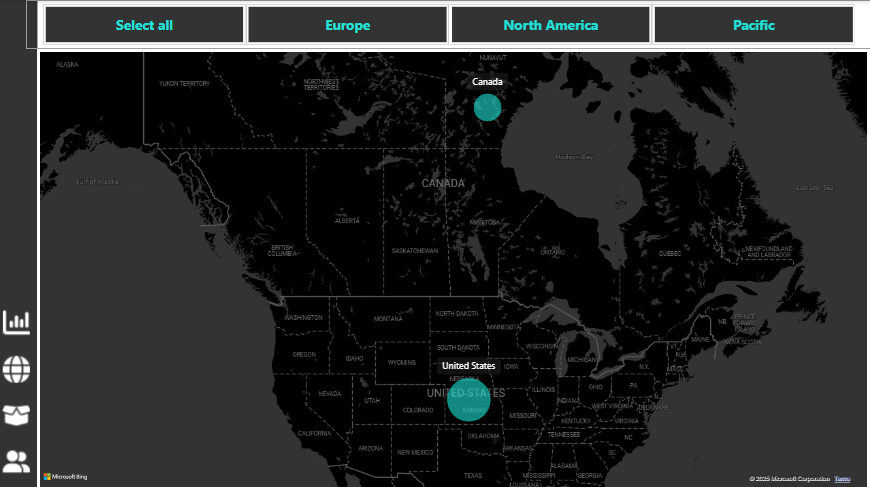

Layout of this report page (visuals, bound fields, positions):
{"tool":"powerbi","page":{"name":"Map","canvas":[1280,720],"ordinal":1},"visuals":[{"type":"shape","box":[0,0,55,720],"z":0},{"type":"map","fields":{"Category":["Territory Lookup.Country"],"Size":["Measure Table (DAX).Total Orders"]},"box":[54.4,72,1225.5,648],"z":1},{"type":"slicer","fields":{"Values":["Territory Lookup.Continent"]},"box":[38.2,0,1241.6,72],"z":2},{"type":"actionButton","box":[0,450.1,54.4,48.5],"z":3},{"type":"actionButton","box":[0,518.2,54.4,48.5],"z":4},{"type":"actionButton","box":[0,586.3,54.4,48.5],"z":5},{"type":"actionButton","box":[0,654.4,54.4,48.5],"z":6}]}

Visuals, with their boxes on the page's 1280x720 design canvas (x1, y1, x2, y2). These are canvas units, not pixel positions in the 870x487 screenshot, which may show the page scaled, cropped or inside an application window:
shape: 0,0,55,720
map - Territory Lookup.Country x Measure Table (DAX).Total Orders: 54,72,1280,720
slicer - Territory Lookup.Continent: 38,0,1280,72
actionButton: 0,450,54,499
actionButton: 0,518,54,567
actionButton: 0,586,54,635
actionButton: 0,654,54,703
